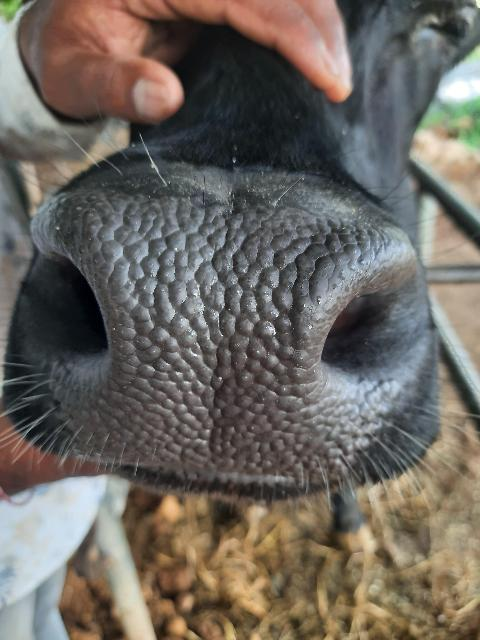Muzzle: (64, 198, 366, 470)
